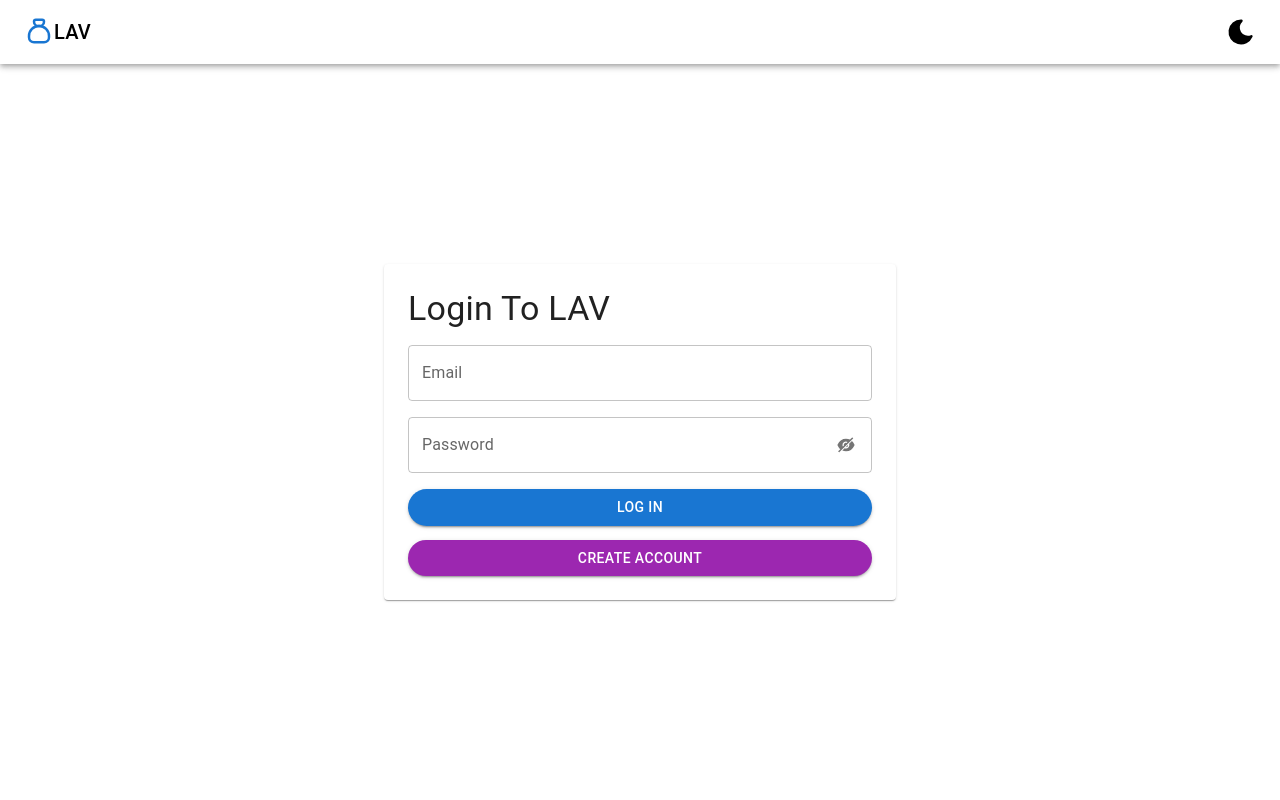
Test: Login Page › Errors will show when submitting without inputting information
The width and height of the screenshot is (1280, 800).
Click the button "Log In" at [640, 508], box [408,490,872,526]
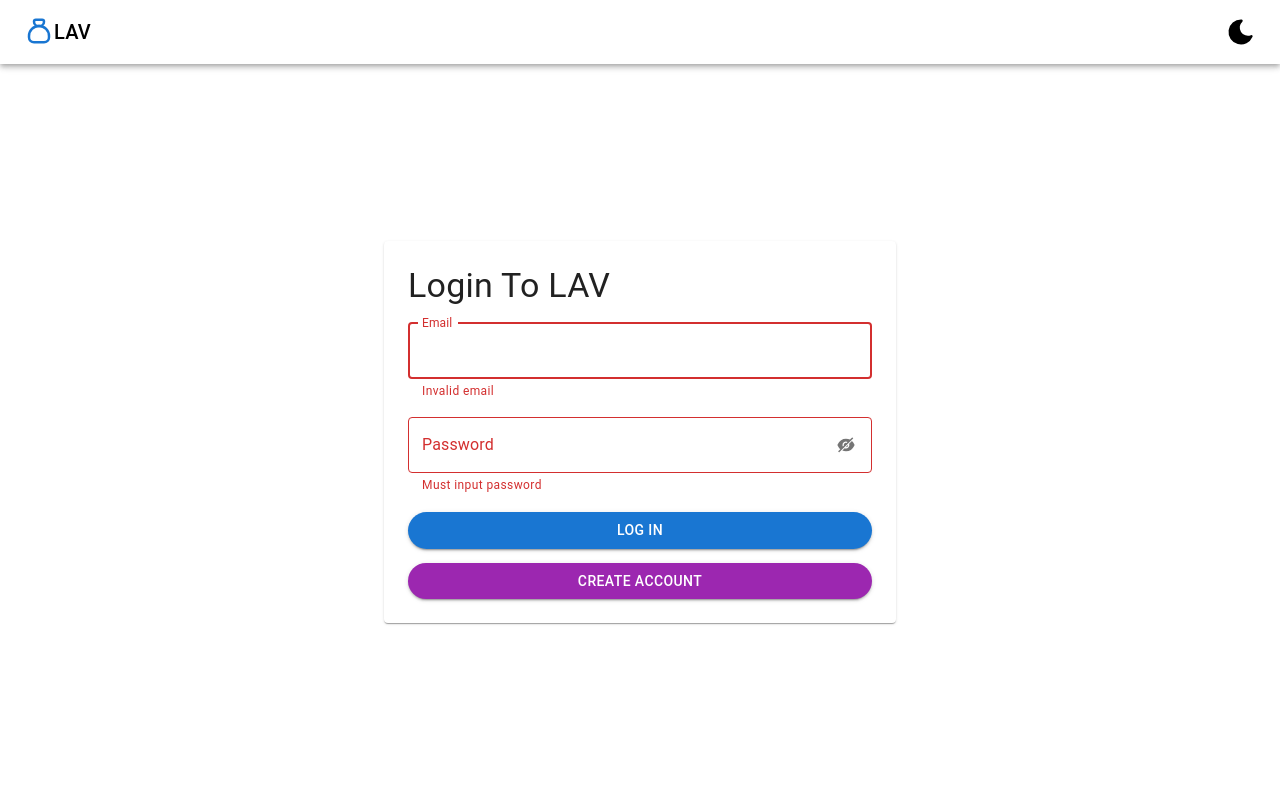
Result: the text "Invalid email" is shown at [422,384,494,398]
Result: the text "Must input password" is shown at [422,478,542,492]
